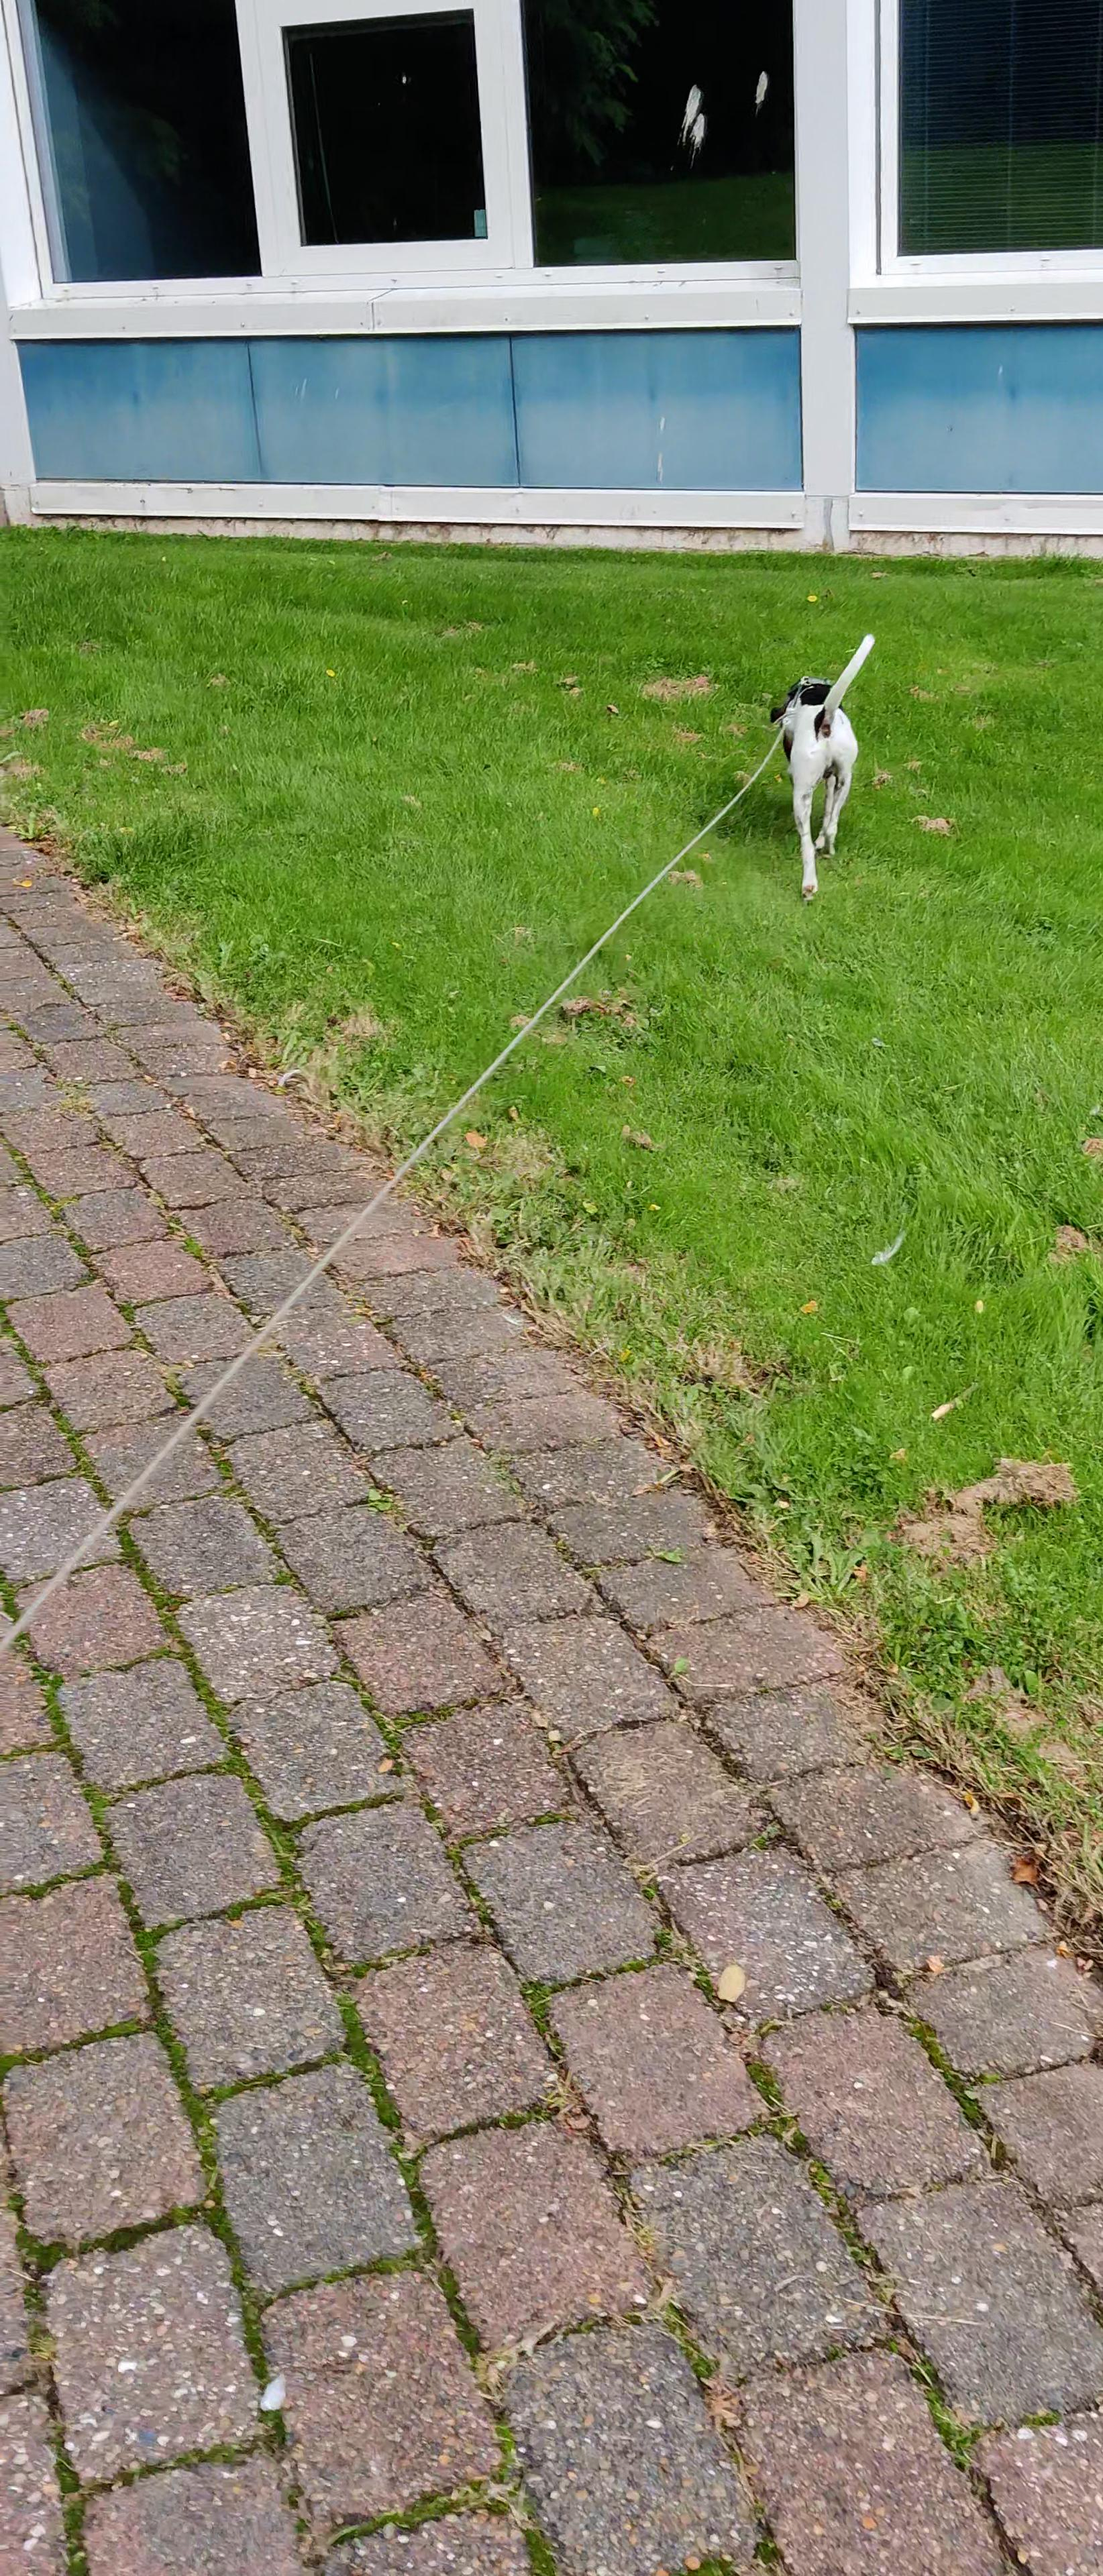Dog: (766, 629, 879, 904)
